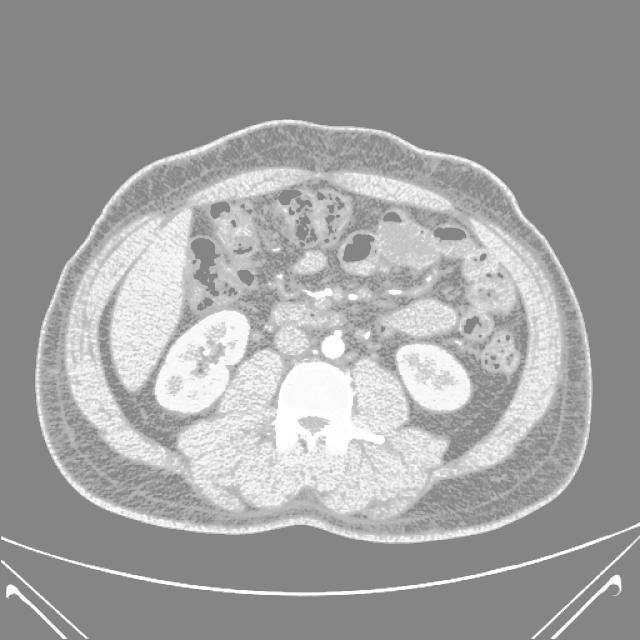NORMAL: (36, 122, 588, 574)
